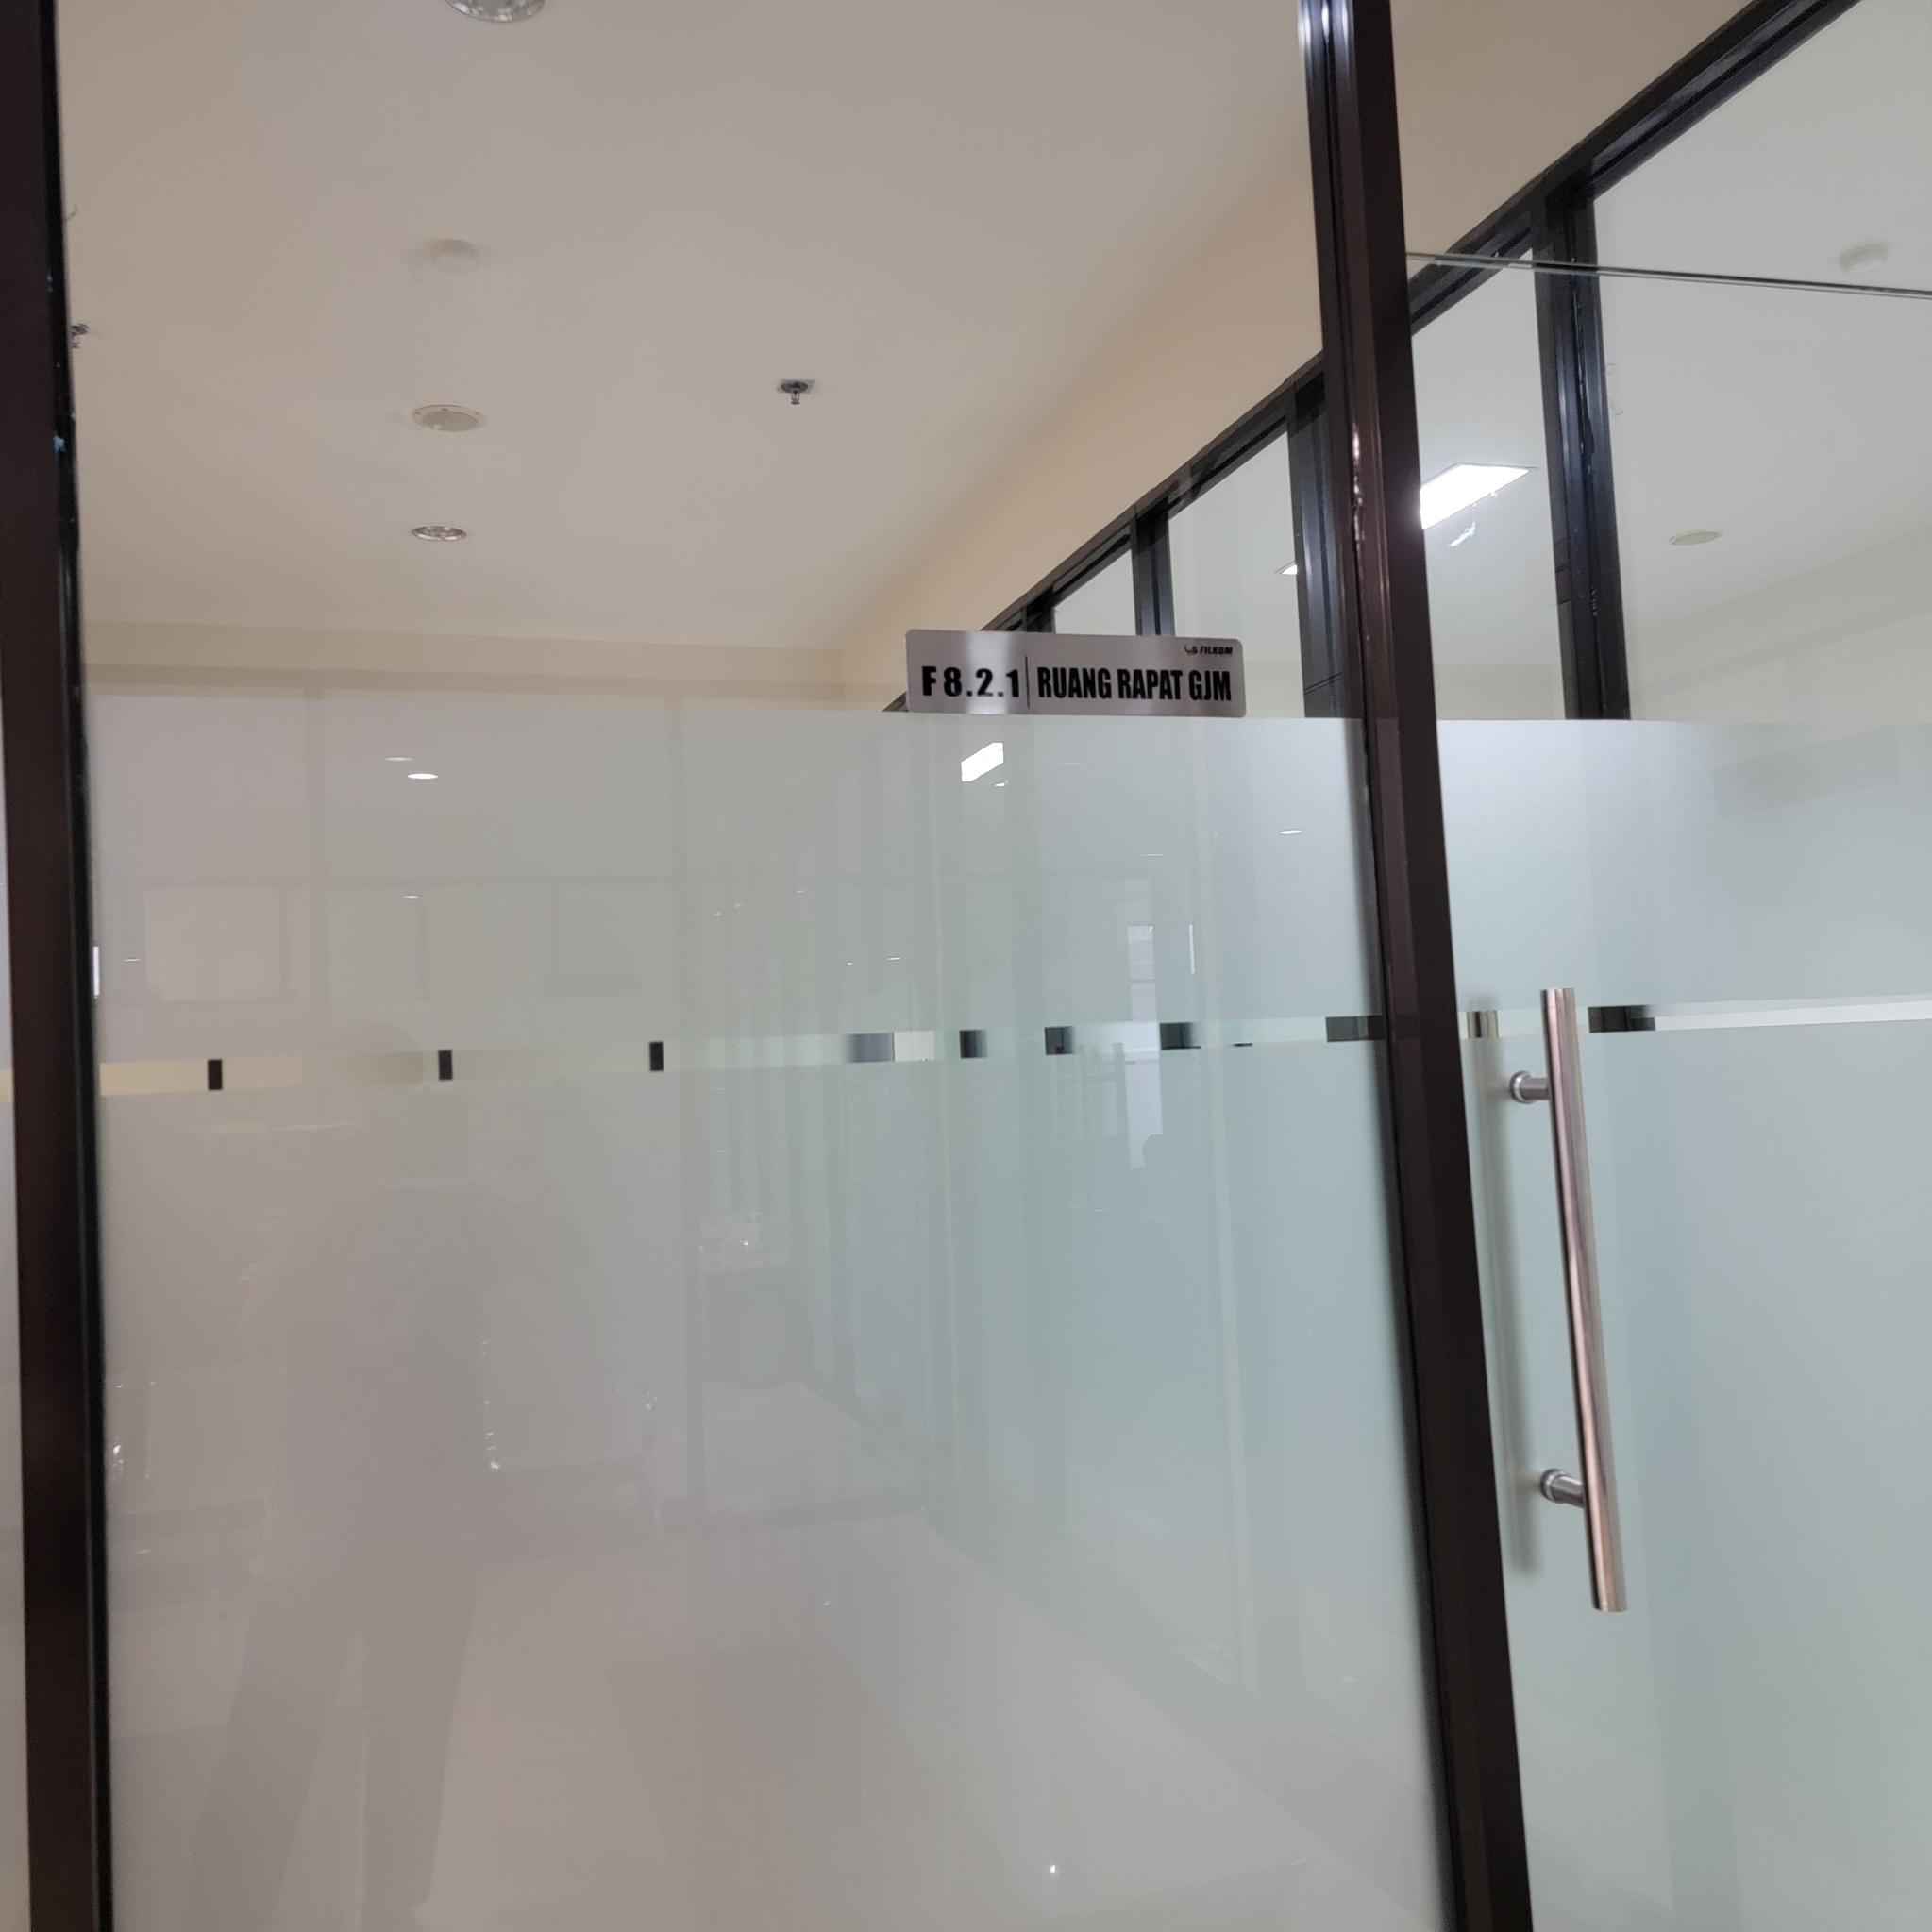plate: (902, 628, 1249, 722)
